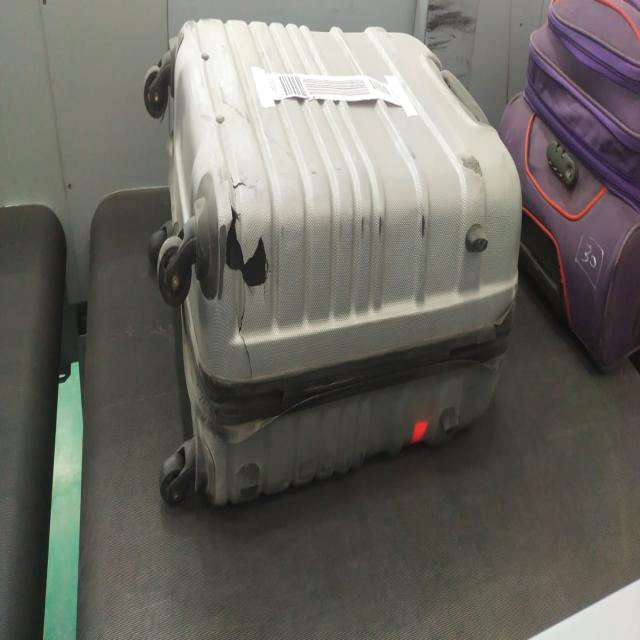Damage-bag: (224, 211, 268, 349), (246, 350, 252, 378)
